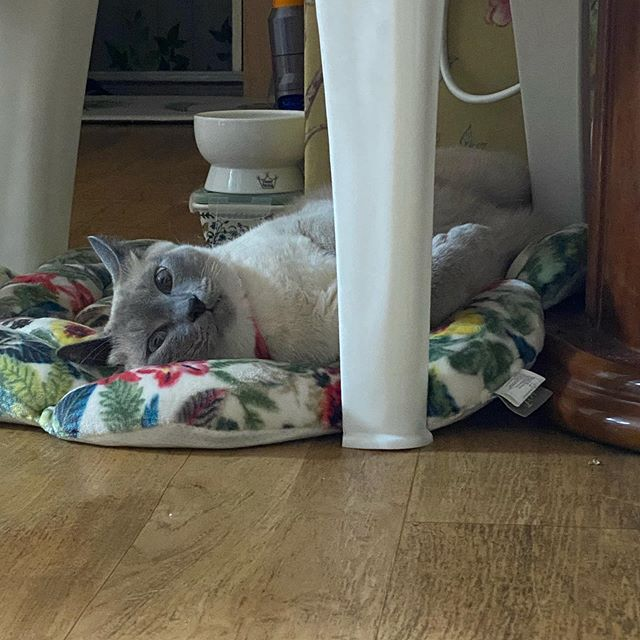cat: (61, 223, 257, 419)
